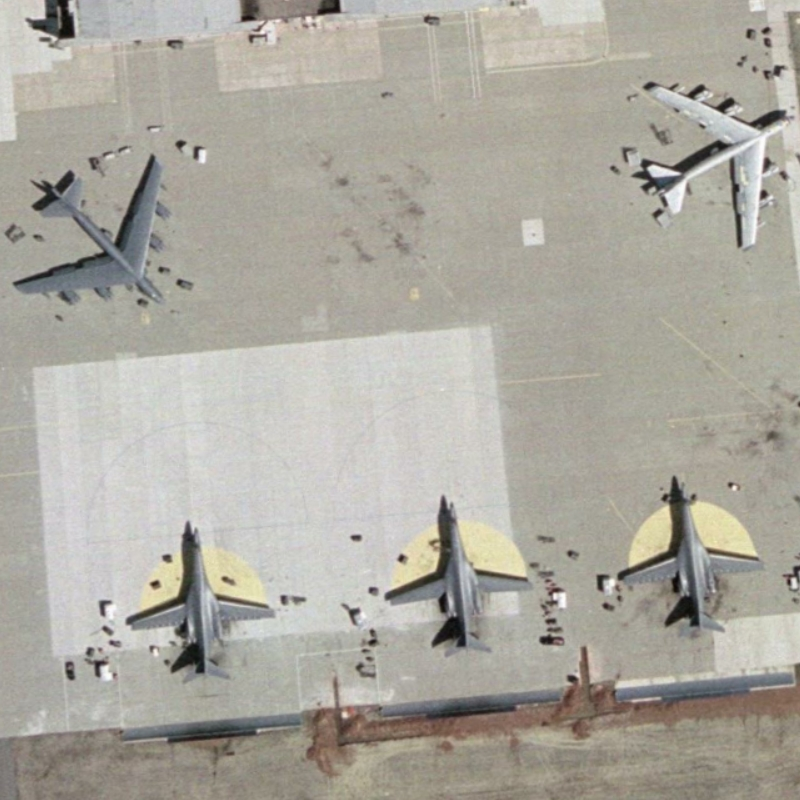A10: (125, 516, 288, 686), (615, 476, 771, 644), (385, 493, 539, 661)
A8: (632, 73, 793, 253), (13, 154, 180, 312)
